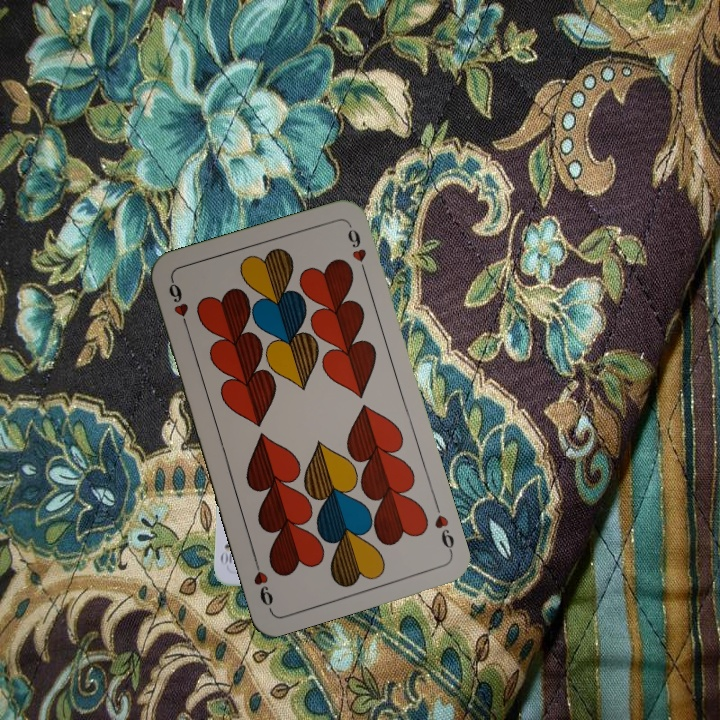H9: (164, 276, 192, 334), (430, 510, 457, 557)
